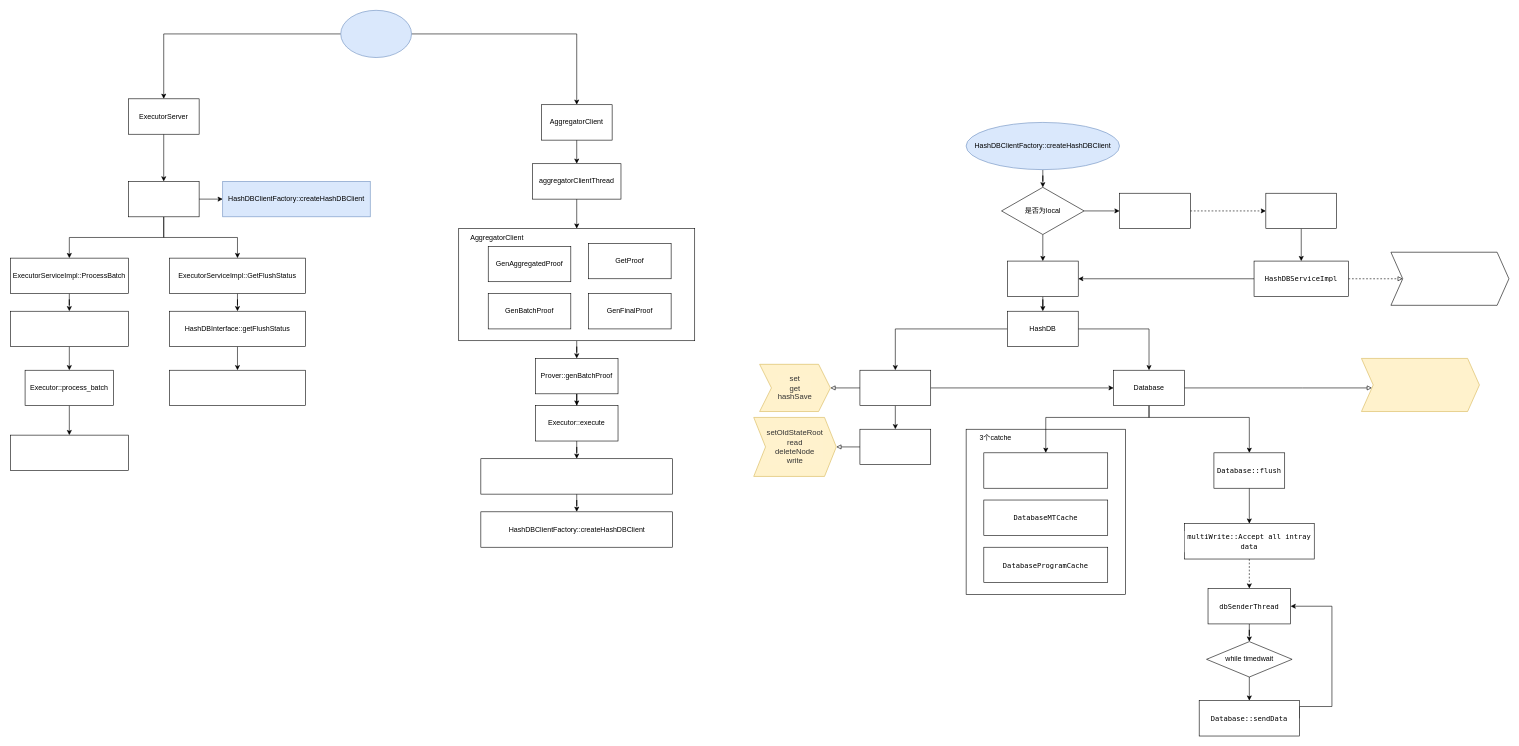
Some shapes in this 1519 by 746 pixel diagram are drawn without their labels. Each missing label, with the centre of its shape:
"Database::getFlushStatus" goes at point (237, 388).
"DatabaseMTAssociativeCache" goes at point (1045, 470).
"ExecutorServiceImpl" goes at point (163, 199).
"fork_5::main_exec_generated_fast" goes at point (69, 453).
"HashDBRemote" goes at point (1154, 211).
"HashDBServer" goes at point (1301, 211).
"hashDBSingleton" goes at point (1042, 278).
"main" goes at point (376, 34).
"Prover::processBatch" goes at point (69, 329).
"PROVER_FORK_NAMESPACE::main_exec_generated" goes at point (576, 476).
"Set Get SetProgram GetProgram Flush" goes at point (1449, 278).
"setProgram getProgram write flush semiFlush" goes at point (1420, 385).
"Smt" goes at point (895, 388).
"stateManager" goes at point (895, 447).
